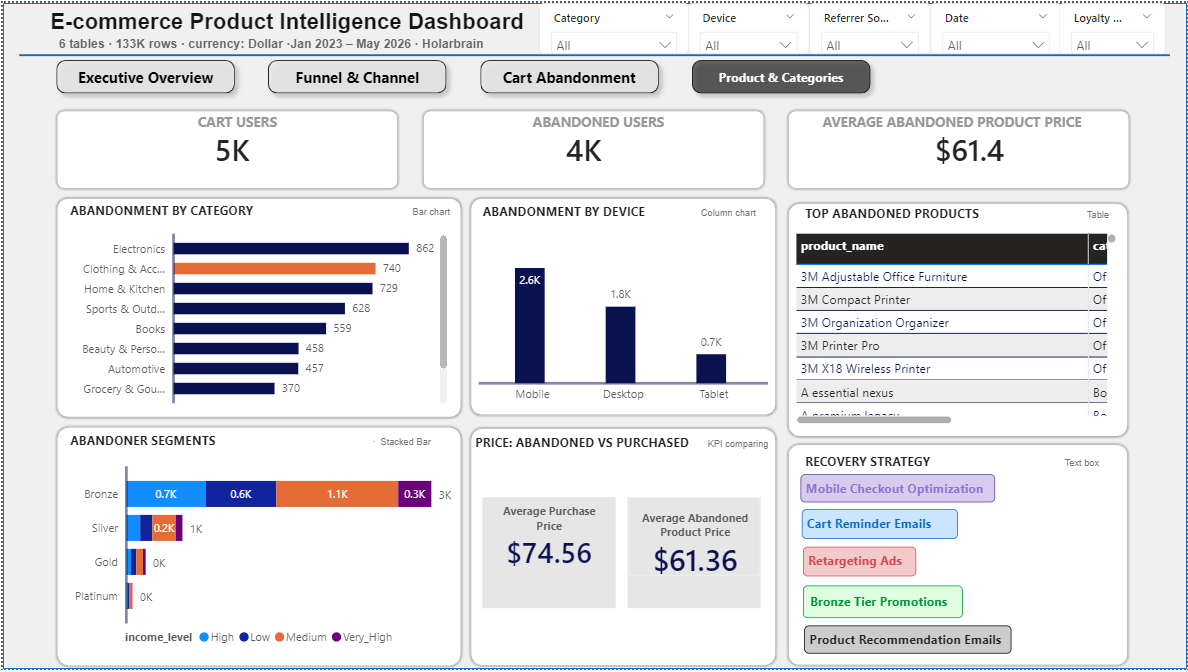

The dashboard page shown, as its layout file describes it:
{"tool":"powerbi","page":{"name":"Cart Abandonment","canvas":[1280,720],"ordinal":2},"visuals":[{"type":"shape","box":[0,0,1280,720],"z":0},{"type":"shape","box":[55,113.4,374.3,90],"z":0,"group":"g1"},{"type":"clusteredBarChart","fields":{"Category":["products_cleaned.category"],"Y":["users_cleaned.Abandoned Users"]},"box":[67.2,237.3,417.9,200],"z":0,"group":"g2"},{"type":"tableEx","fields":{"Values":["products_cleaned.product_name","products_cleaned.category","Sum(products_cleaned.price)","users_cleaned.Abandoned Users"]},"box":[851.9,243.8,356.8,215.4],"z":0,"group":"g3"},{"type":"barChart","fields":{"Category":["users_cleaned.loyalty_tier"],"Series":["users_cleaned.income_level"],"Y":["users_cleaned.Abandoned Users"]},"box":[67.2,488,422.4,214.9],"z":0,"group":"g4"},{"type":"group","id":"g1","title":"Page layout","box":[55,113.4,1164.1,606.5],"z":1000},{"type":"shape","box":[450.7,113.4,374.3,90],"z":1000,"group":"g1"},{"type":"textbox","box":[67.2,207.9,430.4,40.4],"z":1000,"group":"g2"},{"type":"textbox","box":[862.1,211.6,349.7,39.1],"z":1000,"group":"g3"},{"type":"textbox","box":[67.3,456.1,421.9,40.4],"z":1000,"group":"g4"},{"type":"bookmarkNavigator","box":[48.6,52.9,898.6,54.3],"z":2000},{"type":"shape","box":[845,113.4,374.3,90],"z":2000,"group":"g1"},{"type":"textbox","box":[55,30,511.2,31.2],"z":3000},{"type":"shape","box":[55,207.9,442.9,242.9],"z":3000,"group":"g1"},{"type":"textbox","box":[46.2,1.2,535,40],"z":4000},{"type":"shape","box":[845.6,212.8,373.1,258.2],"z":4000,"group":"g1"},{"type":"shape","box":[17.1,50,1244.3,12.9],"z":5000},{"type":"shape","box":[55,455.5,442.9,264.3],"z":5000,"group":"g1"},{"type":"clusteredColumnChart","fields":{"Category":["sessions_cleaned.device_type"],"Y":["users_cleaned.Abandoned Users"]},"box":[509.9,255.6,322.8,185.9],"z":6000},{"type":"shape","box":[502.3,456.1,335.8,262.7],"z":6000,"group":"g1"},{"type":"shape","box":[502.3,208.3,335.8,240.3],"z":7000,"group":"g1"},{"type":"textbox","box":[513.6,209.1,316.7,40.4],"z":7000},{"type":"group","id":"g2","title":"Abandonment by Cat. ","box":[67.2,207.9,430.4,229.4],"z":8000},{"type":"shape","box":[845.5,474.2,373,244.6],"z":8000,"group":"g1"},{"type":"group","id":"g3","title":"Top  Abandoned product","box":[851.9,211.6,359.9,247.6],"z":9000},{"type":"group","id":"g4","title":"Abandoner segments","box":[67.2,456.1,422.4,246.9],"z":10000},{"type":"textbox","box":[862.1,509.9,210.3,30.6],"z":11000},{"type":"textbox","box":[863.3,547.8,168.8,31.8],"z":12000},{"type":"textbox","box":[864.5,588.2,122.3,31.8],"z":13000},{"type":"textbox","box":[864.5,629.8,172.4,35.5],"z":14000},{"type":"textbox","box":[865.8,672.6,223.8,30.6],"z":15000},{"type":"textbox","box":[505.1,459.3,353.5,34.7],"z":16000},{"type":"textbox","box":[862.1,479.4,349.7,30.6],"z":17000},{"type":"cardVisual","fields":{"Data":["users_cleaned.Average Abandoned Product Price"]},"box":[670.8,509.8,154.7,170.5],"z":18000},{"type":"cardVisual","fields":{"Data":["purchases_cleaned.Average Purchase Price"]},"box":[512.9,509.8,154.7,170.5],"z":19000},{"type":"cardVisual","fields":{"Data":["interactions_cleaned.Cart Users"]},"box":[200.5,116.2,181,81.9],"z":20000},{"type":"cardVisual","fields":{"Data":["users_cleaned.Abandoned Users"]},"box":[579.6,116.2,181,81.9],"z":21000},{"type":"cardVisual","fields":{"Data":["users_cleaned.Average Abandoned Product Price"]},"box":[978.3,116.2,181,81.9],"z":22000},{"type":"textbox","box":[563.7,113.7,238.5,39.1],"z":23000},{"type":"textbox","box":[205.4,113.7,144.3,39.1],"z":24000},{"type":"textbox","box":[876.8,113.7,328.9,39.1],"z":25000},{"type":"slicer","fields":{"Values":["products_cleaned.category","products_cleaned.subcategory"]},"box":[579.6,0,161.4,55],"z":26000},{"type":"slicer","fields":{"Values":["sessions_cleaned.device_type"]},"box":[741,0,130.8,55],"z":27000},{"type":"slicer","fields":{"Values":["sessions_cleaned.referrer_source"]},"box":[871.9,0,130.8,55],"z":28000},{"type":"slicer","fields":{"Values":["purchases_cleaned.order_date.Variation.Date Hierarchy.Year","purchases_cleaned.order_date.Variation.Date Hierarchy.Month"]},"box":[1002.7,0,141.8,55],"z":29000},{"type":"slicer","fields":{"Values":["users_cleaned.loyalty_tier"]},"box":[1142.1,0,114.9,55],"z":30000}]}

Visuals, with their boxes on the page's 1280x720 design canvas (x1, y1, x2, y2). These are canvas units, not pixel positions in the 1188x672 screenshot, which may show the page scaled, cropped or inside an application window:
shape: select_region(0, 0, 1280, 720)
shape: select_region(55, 113, 429, 203)
clusteredBarChart - products_cleaned.category x users_cleaned.Abandoned Users: select_region(67, 237, 485, 437)
tableEx - products_cleaned.product_name x products_cleaned.category: select_region(852, 244, 1209, 459)
barChart - users_cleaned.loyalty_tier x users_cleaned.income_level: select_region(67, 488, 490, 703)
"Page layout" group: select_region(55, 113, 1219, 720)
shape: select_region(451, 113, 825, 203)
textbox: select_region(67, 208, 498, 248)
textbox: select_region(862, 212, 1212, 251)
textbox: select_region(67, 456, 489, 496)
bookmarkNavigator: select_region(49, 53, 947, 107)
shape: select_region(845, 113, 1219, 203)
textbox: select_region(55, 30, 566, 61)
shape: select_region(55, 208, 498, 451)
textbox: select_region(46, 1, 581, 41)
shape: select_region(846, 213, 1219, 471)
shape: select_region(17, 50, 1261, 63)
shape: select_region(55, 456, 498, 720)
clusteredColumnChart - sessions_cleaned.device_type x users_cleaned.Abandoned Users: select_region(510, 256, 833, 442)
shape: select_region(502, 456, 838, 719)
shape: select_region(502, 208, 838, 449)
textbox: select_region(514, 209, 830, 250)
"Abandonment by Cat. " group: select_region(67, 208, 498, 437)
shape: select_region(846, 474, 1218, 719)
"Top  Abandoned product" group: select_region(852, 212, 1212, 459)
"Abandoner segments" group: select_region(67, 456, 490, 703)
textbox: select_region(862, 510, 1072, 540)
textbox: select_region(863, 548, 1032, 580)
textbox: select_region(864, 588, 987, 620)
textbox: select_region(864, 630, 1037, 665)
textbox: select_region(866, 673, 1090, 703)
textbox: select_region(505, 459, 859, 494)
textbox: select_region(862, 479, 1212, 510)
cardVisual - users_cleaned.Average Abandoned Product Price: select_region(671, 510, 826, 680)
cardVisual - purchases_cleaned.Average Purchase Price: select_region(513, 510, 668, 680)
cardVisual - interactions_cleaned.Cart Users: select_region(200, 116, 382, 198)
cardVisual - users_cleaned.Abandoned Users: select_region(580, 116, 761, 198)
cardVisual - users_cleaned.Average Abandoned Product Price: select_region(978, 116, 1159, 198)
textbox: select_region(564, 114, 802, 153)
textbox: select_region(205, 114, 350, 153)
textbox: select_region(877, 114, 1206, 153)
slicer - products_cleaned.category x products_cleaned.subcategory: select_region(580, 0, 741, 55)
slicer - sessions_cleaned.device_type: select_region(741, 0, 872, 55)
slicer - sessions_cleaned.referrer_source: select_region(872, 0, 1003, 55)
slicer - purchases_cleaned.order_date.Variation.Date Hierarchy.Year x purchases_cleaned.order_date.Variation.Date Hierarchy.Month: select_region(1003, 0, 1144, 55)
slicer - users_cleaned.loyalty_tier: select_region(1142, 0, 1257, 55)
